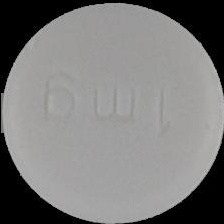10370-533: (0, 0, 224, 224)
